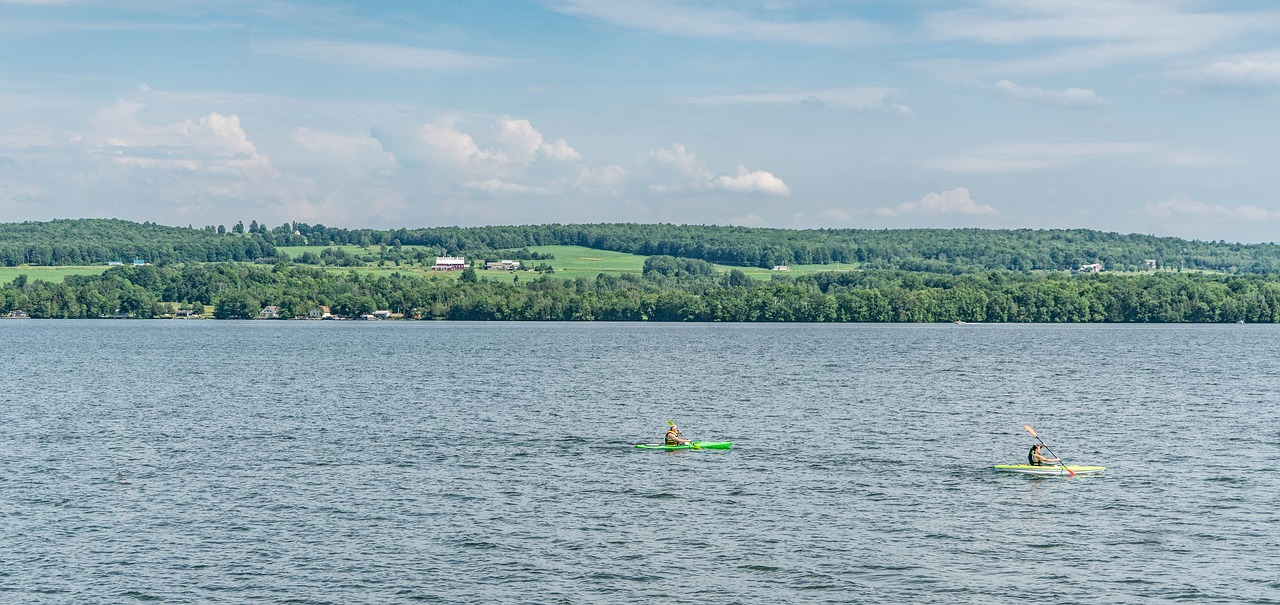kayak: (990, 463, 1109, 479), (637, 439, 737, 454)
